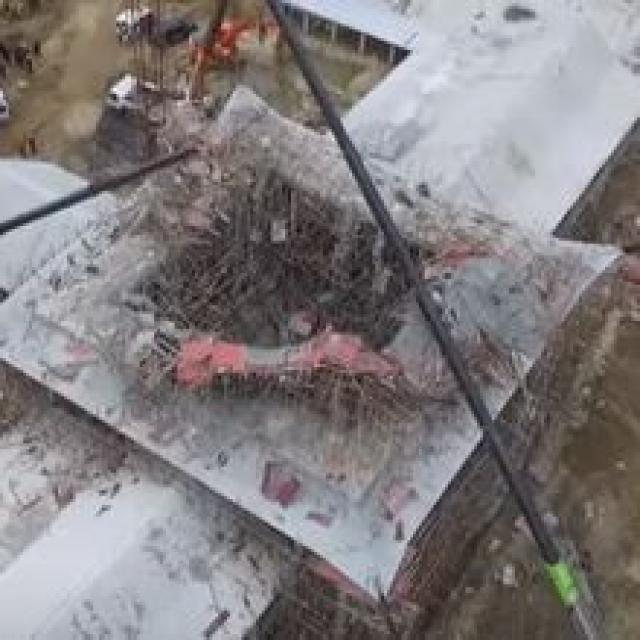collapsed_building: (23, 138, 518, 540)
